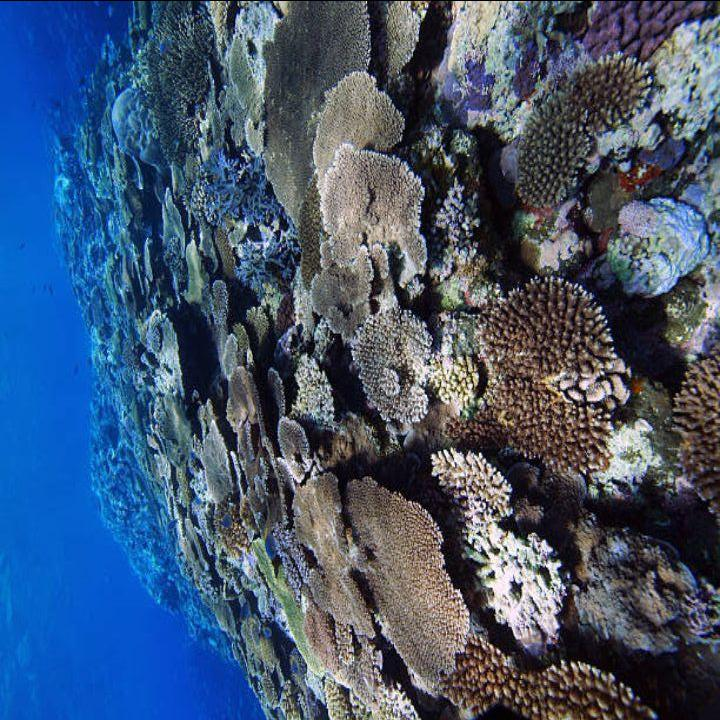Healthy Coral: (241, 7, 708, 712), (134, 1, 227, 515)
